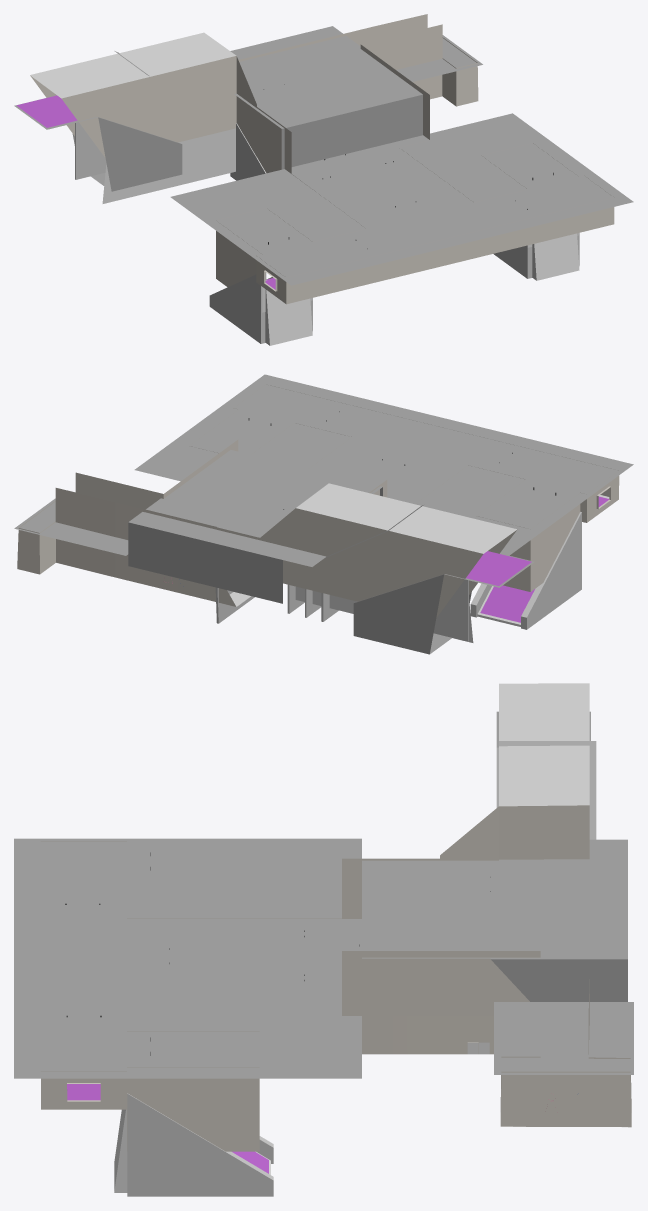
File: MAP_Wave_02.fbx
3 views of the same model, one above another, from view 1: azimuth 30°, elevation 25°; view 2: azimuth 150°, elevation 25°; view 3: azimuth 270°, elevation 25° (orthographic). The views are drawn at different scales.
Parts seen in each view (by area): view 1: Wave_02_mesh, Wave_02_NAV_GEO; view 2: Wave_02_mesh, Wave_02_NAV_GEO; view 3: Wave_02_mesh, Wave_02_NAV_GEO.
Boxes of the visible parts, x1,y1,x2,y2 form: Wave_02_mesh: [14, 14, 633, 345]; Wave_02_NAV_GEO: [16, 95, 275, 289]; Wave_02_mesh: [14, 374, 633, 654]; Wave_02_NAV_GEO: [466, 496, 609, 622]; Wave_02_mesh: [14, 683, 633, 1196]; Wave_02_NAV_GEO: [67, 1084, 268, 1173].
Size of the model in its own units: 2087 by 778 by 1793.
